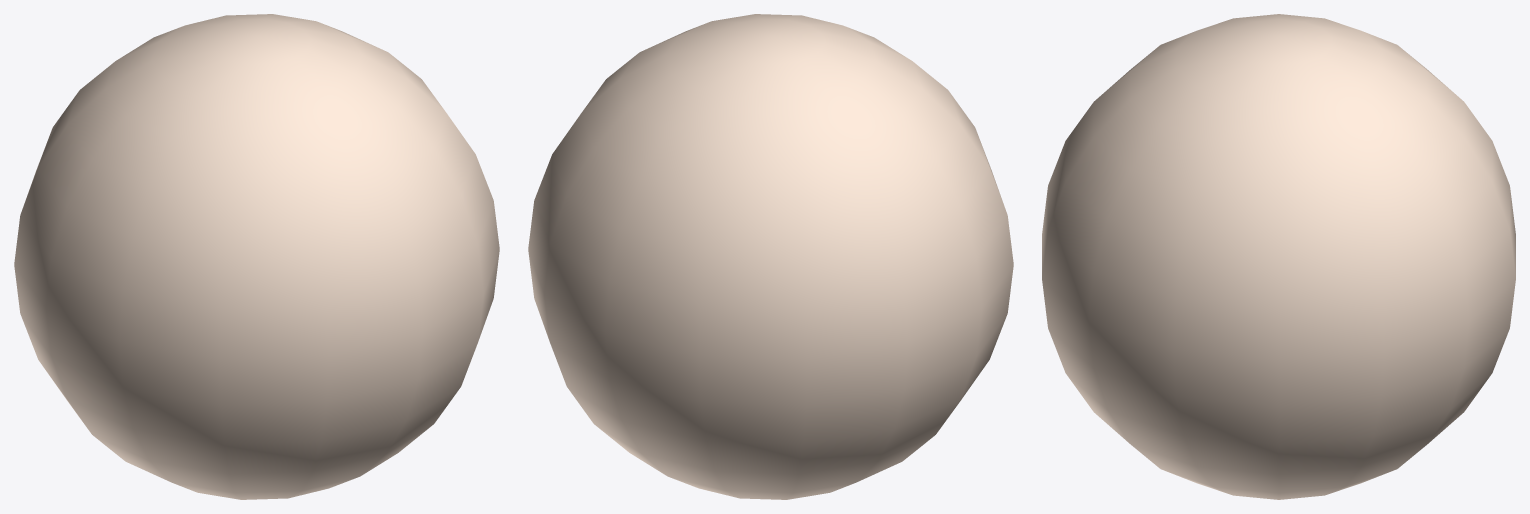
The model's file is ball.fbx.
3 renders of one model, left to right at view 1: azimuth 30°, elevation 25°; view 2: azimuth 150°, elevation 25°; view 3: azimuth 270°, elevation 25°, orthographic.
Parts seen in each view (by area): view 1: ball; view 2: ball; view 3: ball.
Part boxes in pixels (x1,y1,x2,y2): ball: [14, 14, 499, 499]; ball: [528, 14, 1013, 499]; ball: [1042, 14, 1515, 499].
Bounding box in the file's own units: 24 × 24 × 23.4.
